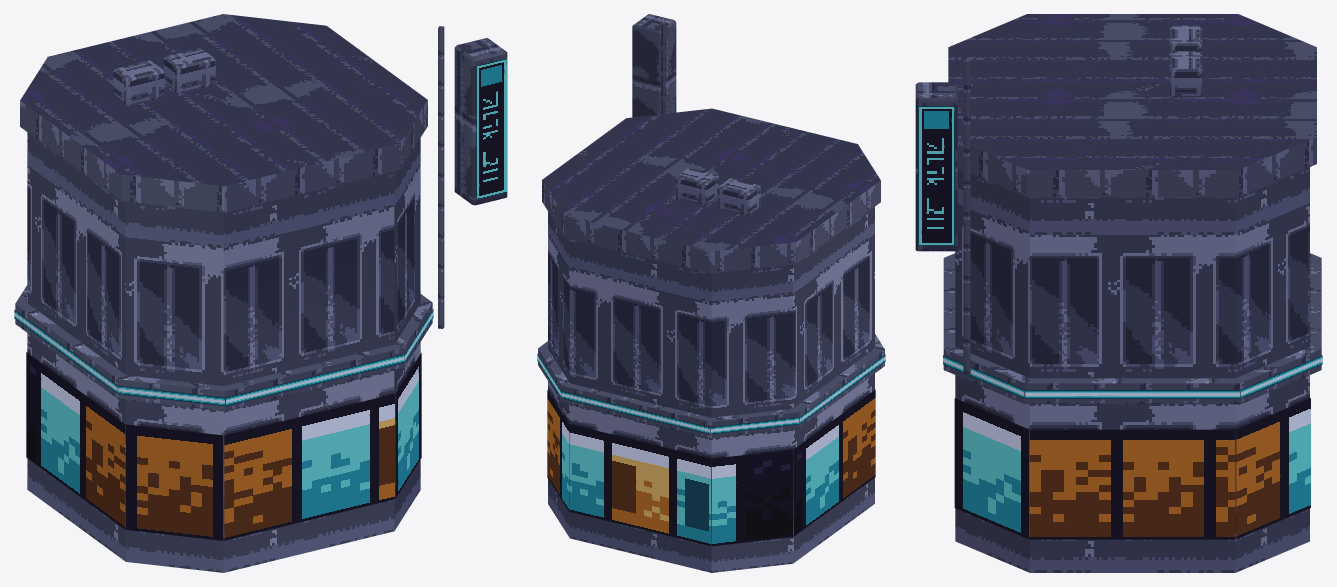
File: cytower.annex.glb
3 views of the same model, side by side, from view 1: azimuth 30°, elevation 25°; view 2: azimuth 150°, elevation 25°; view 3: azimuth 270°, elevation 25° (orthographic). The views are drawn at different scales.
Parts seen in each view (by area): view 1: kit_block, kit_card_cards, kit_mast; view 2: kit_block, kit_card_cards, kit_mast; view 3: kit_block, kit_card_cards, kit_mast.
Boxes of the visible parts, bbox=[...] form: kit_block: bbox=[15, 14, 507, 572]; kit_card_cards: bbox=[14, 58, 507, 540]; kit_mast: bbox=[438, 26, 444, 328]; kit_block: bbox=[538, 14, 884, 572]; kit_card_cards: bbox=[537, 354, 885, 546]; kit_mast: bbox=[660, 22, 665, 114]; kit_block: bbox=[915, 14, 1321, 572]; kit_card_cards: bbox=[918, 106, 1322, 539]; kit_mast: bbox=[963, 59, 970, 374].
Bounding box in the file's own units: 8.76 × 12 × 8.76.
9 materials, 9 textured.
